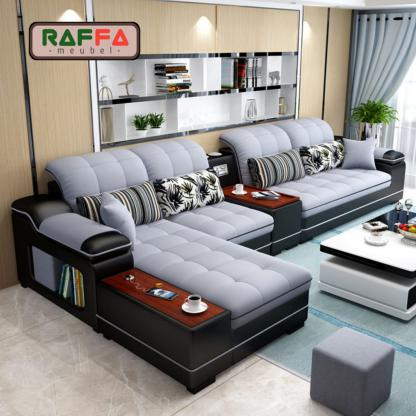bantal: (162, 171, 222, 209), (99, 198, 139, 245), (257, 151, 305, 186), (119, 182, 158, 225), (345, 139, 377, 168)
buku: (154, 60, 195, 95)
gelas: (182, 294, 204, 313), (232, 183, 247, 193)
meja: (317, 204, 416, 319)
sova: (48, 124, 350, 331)
tanaman: (348, 99, 393, 143), (132, 113, 163, 130)
